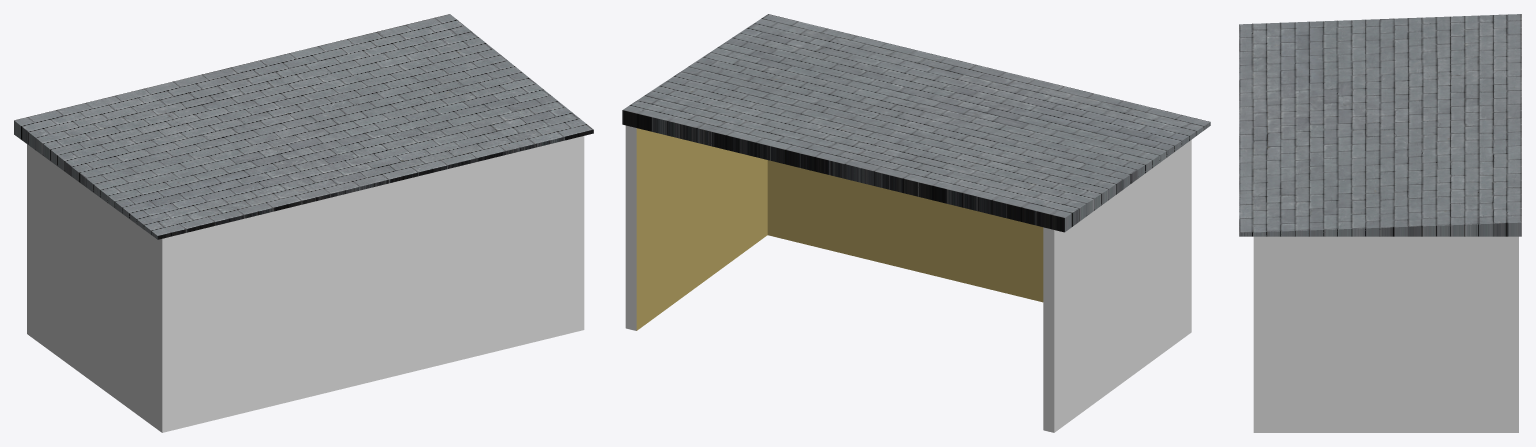
Rendered from Toilets structure.FBX.
The picture shows the model from 3 angles, left to right: view 1: azimuth 30°, elevation 25°; view 2: azimuth 150°, elevation 25°; view 3: azimuth 270°, elevation 25°; orthographic projection. The views are drawn at different scales.
Parts seen in each view (by area): view 1: toilets structure, toilets ceiling; view 2: toilets structure, toilets ceiling; view 3: toilets ceiling, toilets structure.
Part boxes in pixels (x1,y1,x2,y2): toilets structure: (27, 136, 584, 432); toilets ceiling: (14, 14, 593, 239); toilets structure: (625, 125, 1191, 432); toilets ceiling: (622, 14, 1210, 232); toilets ceiling: (1239, 14, 1521, 236); toilets structure: (1253, 236, 1518, 432).
Size of the model in its own units: 617 by 291 by 353.
4 materials, 3 textured.
